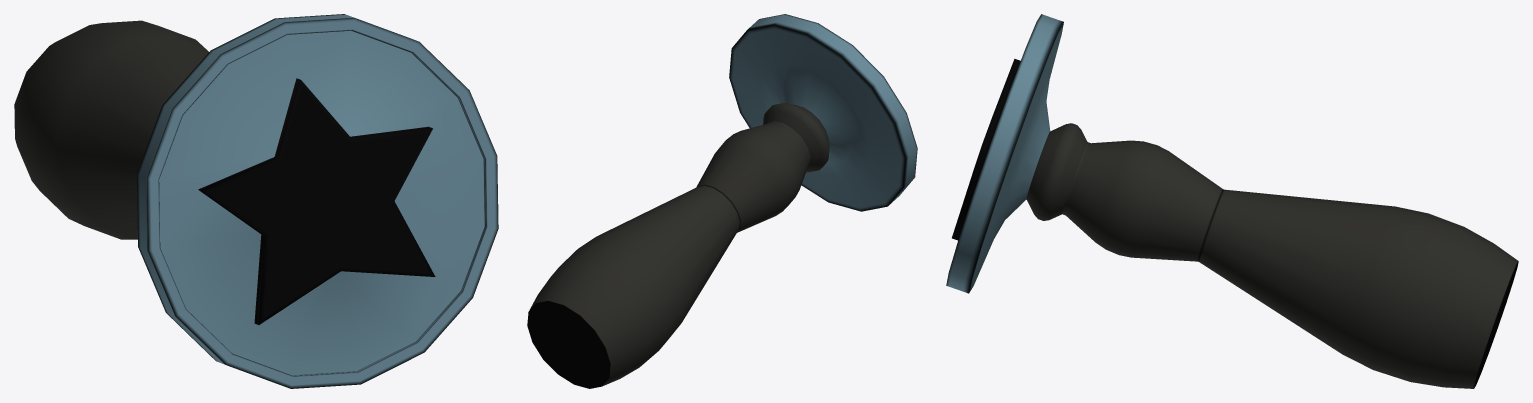
Rendered from Stamp.fbx.
3 views of the same model, side by side, from view 1: azimuth 30°, elevation 25°; view 2: azimuth 150°, elevation 25°; view 3: azimuth 270°, elevation 25° (orthographic). The views are drawn at different scales.
Parts seen in each view (by area): view 1: Cylinder.053; view 2: Cylinder.053; view 3: Cylinder.053.
Boxes of the visible parts, left/top/right/bottom form: Cylinder.053: left=14, top=14, right=498, bottom=388; Cylinder.053: left=527, top=14, right=917, bottom=388; Cylinder.053: left=946, top=14, right=1518, bottom=388.
Size of the model in its own units: 89.65 by 104 by 169.
